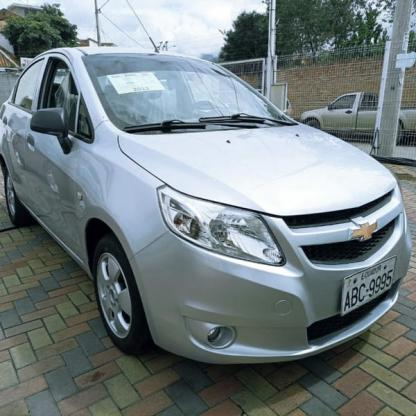Placa: (340, 255, 399, 312)
